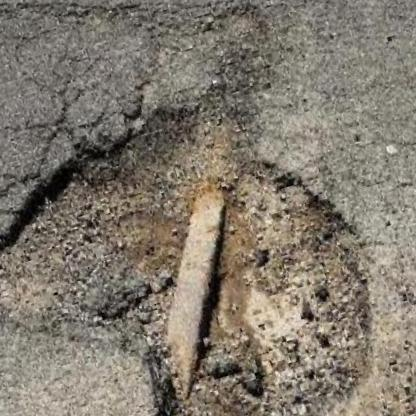pothole: (0, 53, 416, 416)
